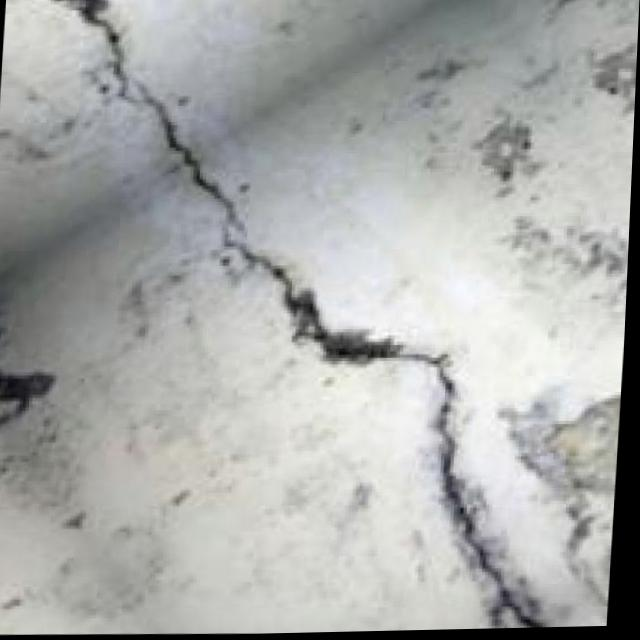Crack: (20, 0, 609, 639)
